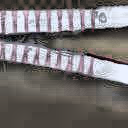crackTip: (1, 26, 128, 69)
